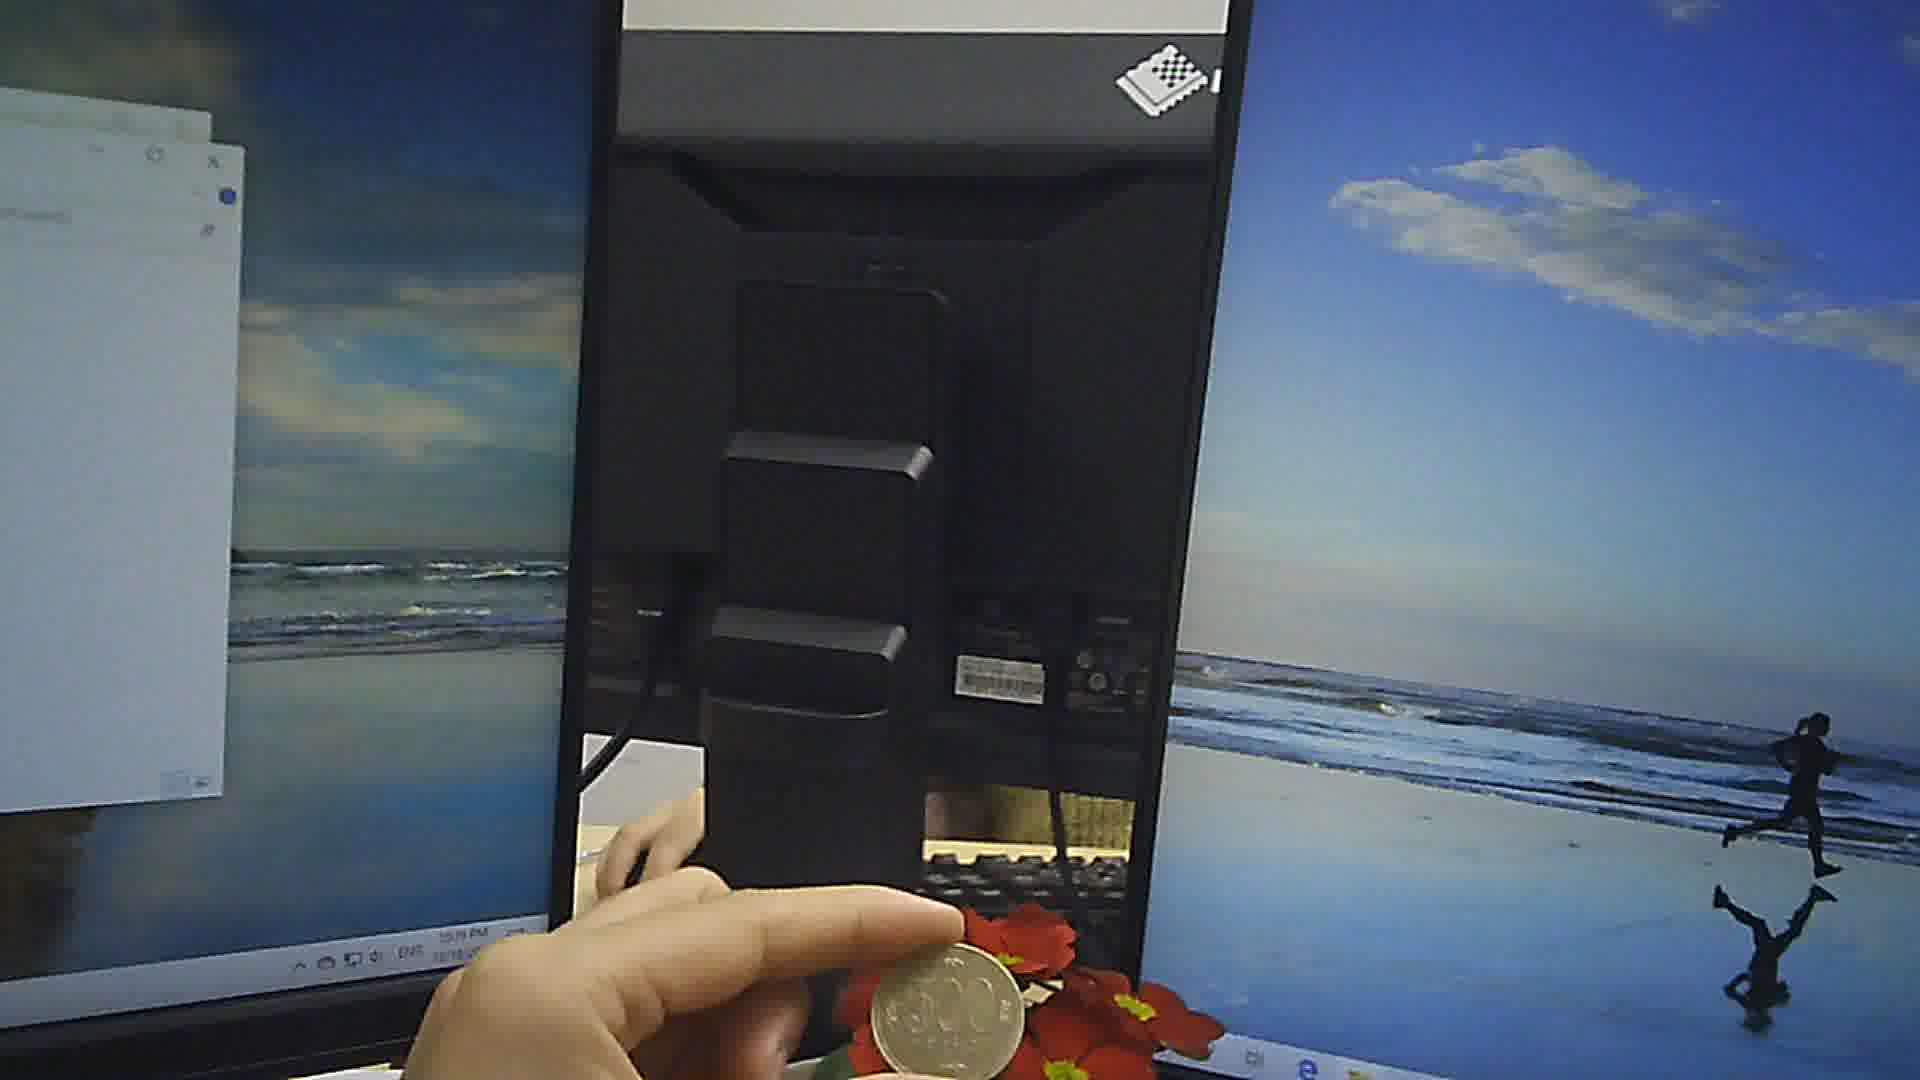500 Yen: (865, 934, 1029, 1075)
